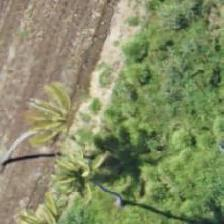coconut_tree: (18, 81, 108, 171), (43, 125, 133, 215)
